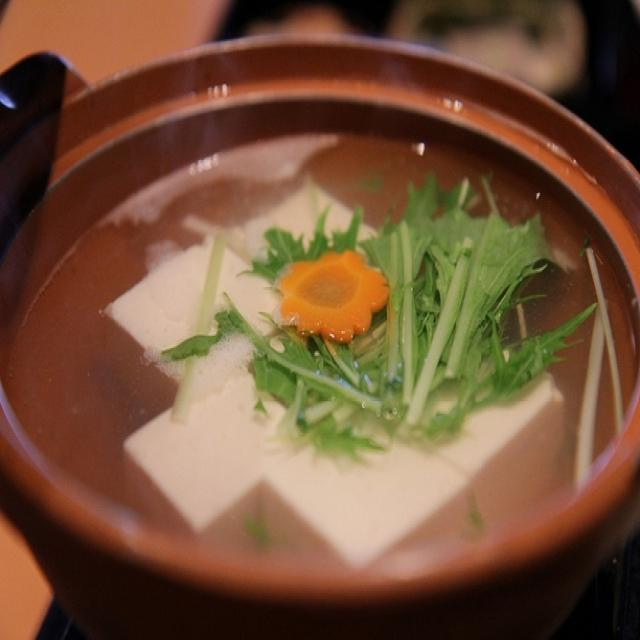豆腐料理: (22, 69, 634, 610)
